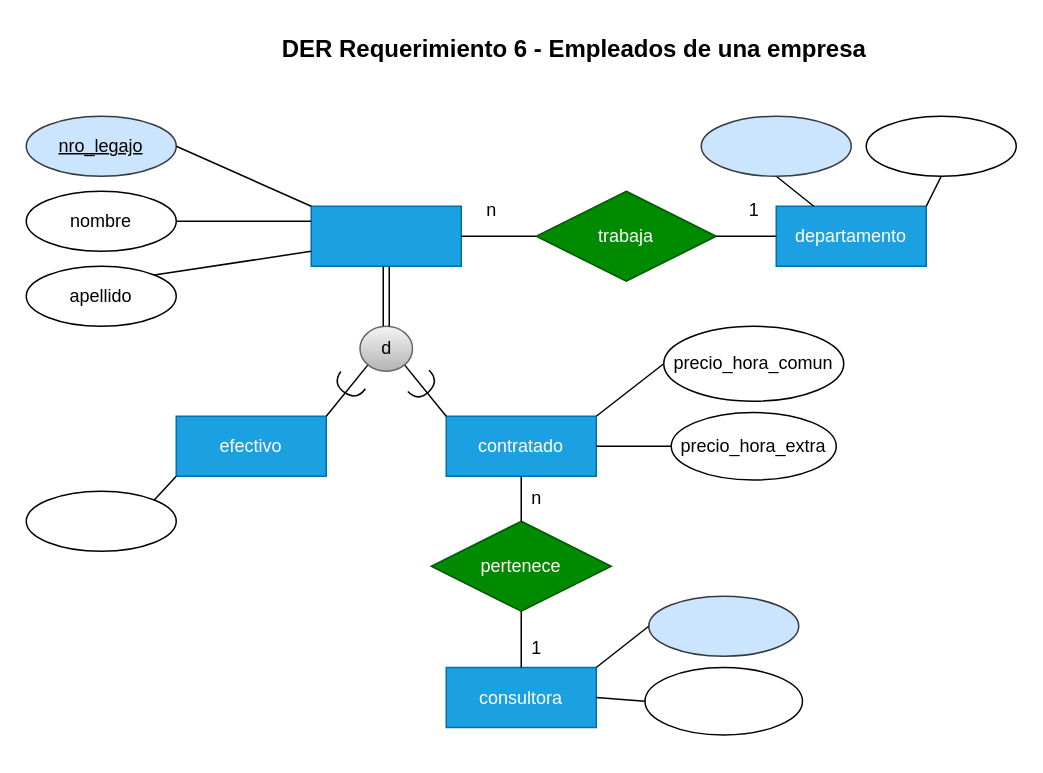
The diagram is 1043 pixels wide and 773 high, and some of its shapes have lost their labels. The shapes that lost their labels are listed below. From the top down, each one's centre as x and y in pixels, then its label:
pixel 775 145: codigo
pixel 940 145: descripcion
pixel 385 235: empleado
pixel 100 520: salario
pixel 723 625: nro_cuit
pixel 723 700: razon_social
